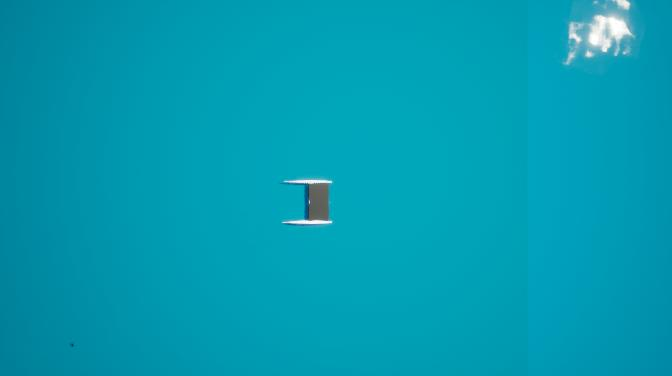boat: (281, 178, 334, 229)
drone: (68, 340, 77, 351)
land_base: (308, 185, 329, 219)
light_reflex: (547, 0, 653, 79)
